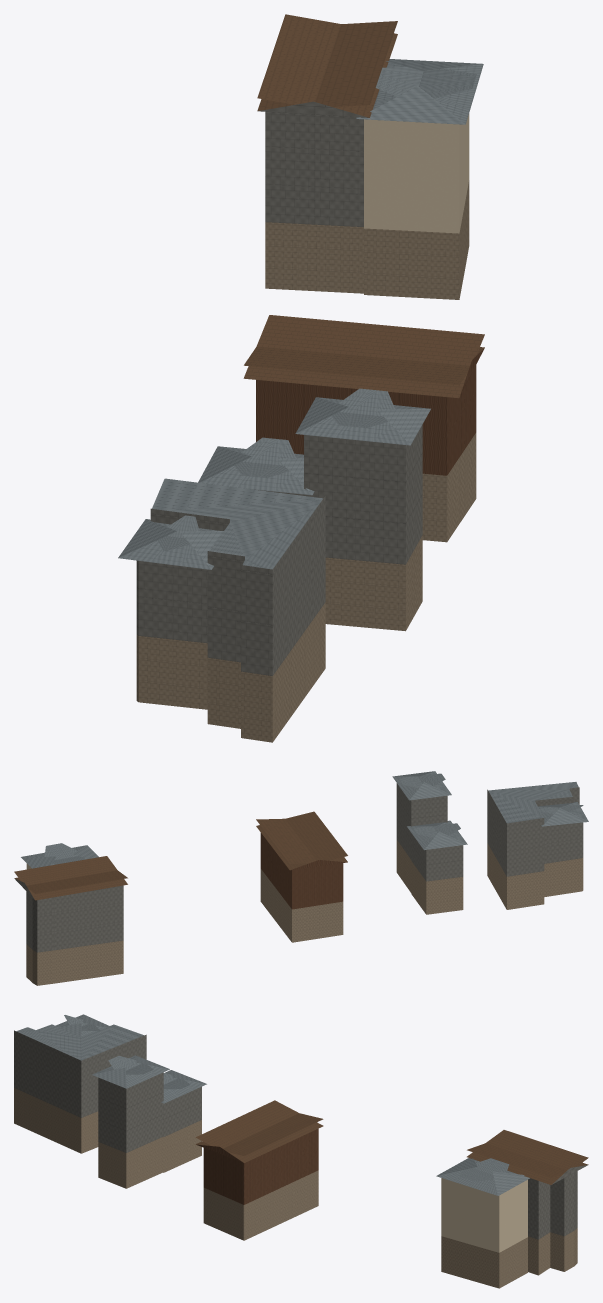
File: bld_c-23_10_546.gltf
3 views of the same model, one above another, from view 1: azimuth 30°, elevation 25°; view 2: azimuth 150°, elevation 25°; view 3: azimuth 270°, elevation 25° (orthographic). The views are drawn at different scales.
Visible parts, largest first — view 1: bld_c-23_10_546; view 2: bld_c-23_10_546; view 3: bld_c-23_10_546.
Boxes of the visible parts, x1,y1,x2,y2 form: bld_c-23_10_546: (118, 14, 484, 742); bld_c-23_10_546: (14, 771, 588, 985); bld_c-23_10_546: (14, 1014, 588, 1288).
Size of the model in its own units: 60.32 by 16.9 by 74.35.
Materials: 8 (8 with a texture image).
